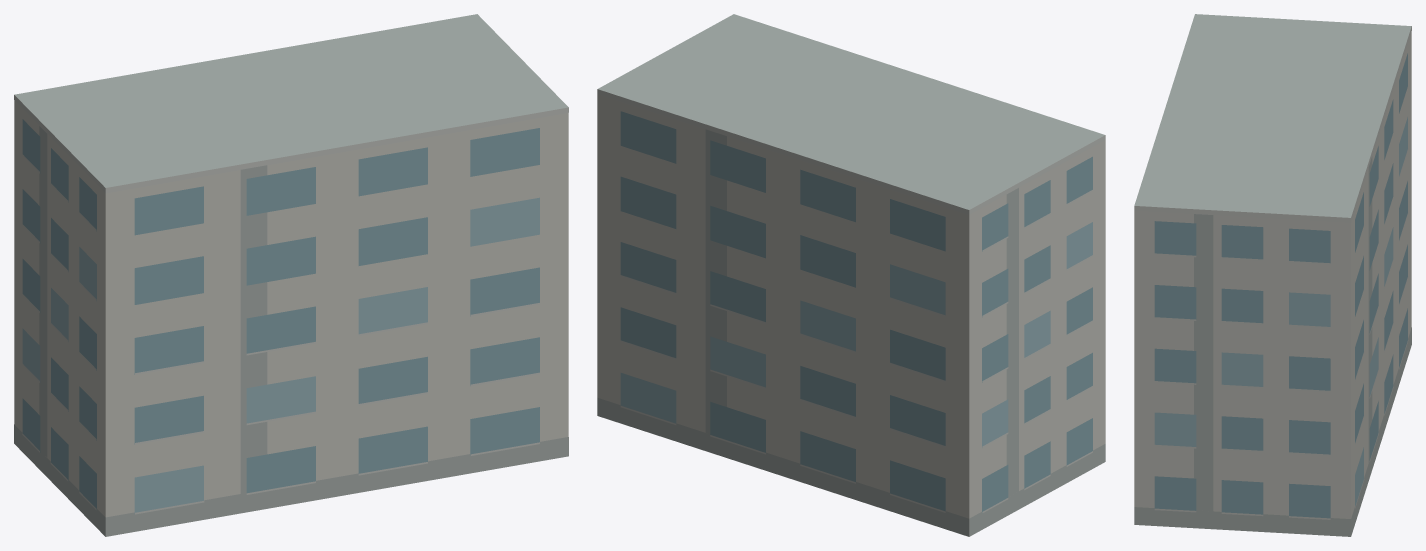
The model's file is survey-upis-32522224.glb.
3 renders of one model, left to right at view 1: azimuth 30°, elevation 25°; view 2: azimuth 150°, elevation 25°; view 3: azimuth 270°, elevation 25°, orthographic. The views are drawn at different scales.
Visible parts, largest first — view 1: survey-upis-32522224.tmp; view 2: survey-upis-32522224.tmp; view 3: survey-upis-32522224.tmp.
Boxes of the visible parts, x1,y1,x2,y2 form: survey-upis-32522224.tmp: [14, 14, 568, 536]; survey-upis-32522224.tmp: [597, 14, 1105, 536]; survey-upis-32522224.tmp: [1134, 14, 1411, 536].
Size of the model in its own units: 21.95 by 16 by 12.62.
